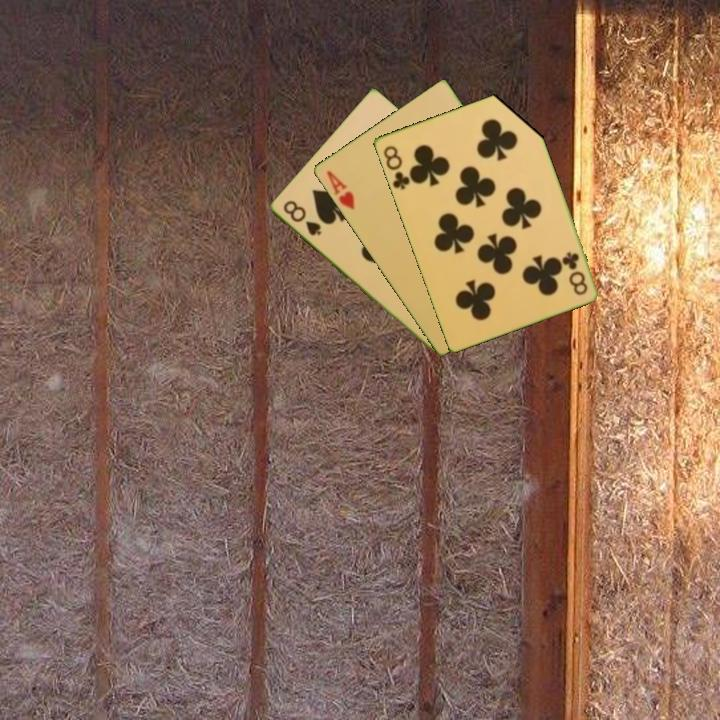8c: (379, 142, 413, 192), (559, 248, 590, 298)
8s: (279, 197, 324, 239)
Ah: (322, 167, 357, 213)
